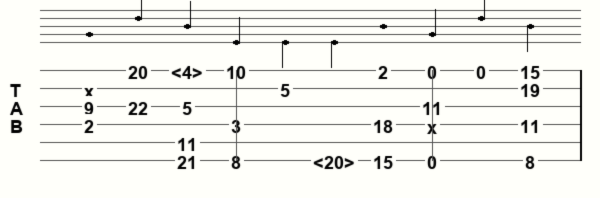0: (427, 152, 441, 169), (427, 62, 441, 79), (476, 62, 490, 79)
10: (226, 62, 250, 79)
11: (177, 134, 201, 151), (422, 98, 446, 115), (520, 116, 544, 133)
15: (373, 152, 397, 169), (520, 62, 544, 79)
18: (373, 116, 397, 133)
19: (520, 80, 544, 97)
2: (84, 116, 98, 133), (378, 62, 392, 79)
20: (128, 62, 152, 79)
21: (177, 152, 201, 169)
22: (128, 98, 152, 115)
3: (231, 116, 245, 133)
5: (182, 98, 196, 115), (280, 80, 294, 97)
8: (231, 152, 245, 169), (525, 152, 539, 169)
9: (84, 98, 98, 115)
harmonic: (313, 152, 359, 169), (171, 62, 207, 79)
x: (84, 81, 98, 95), (427, 117, 441, 131)
